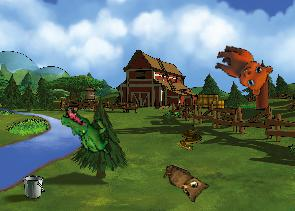bear: (208, 42, 275, 98)
crocodile: (53, 105, 121, 158)
owl: (157, 163, 210, 205)
